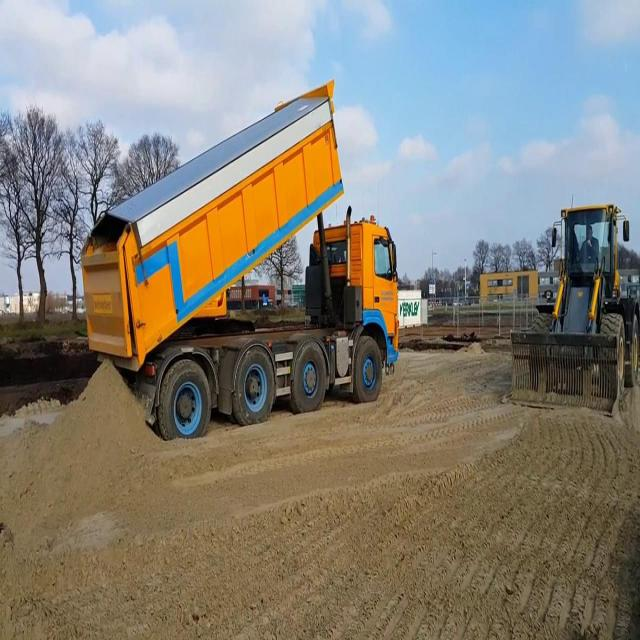Dump Truck: (80, 78, 398, 440)
Loader: (500, 194, 638, 418)
